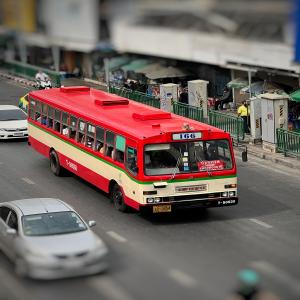BMTA-bus: (18, 86, 239, 215)
Bus Line Number: (173, 131, 204, 141)
Bus Side Number: (215, 200, 238, 205)
Destination Sign: (197, 159, 225, 171)
